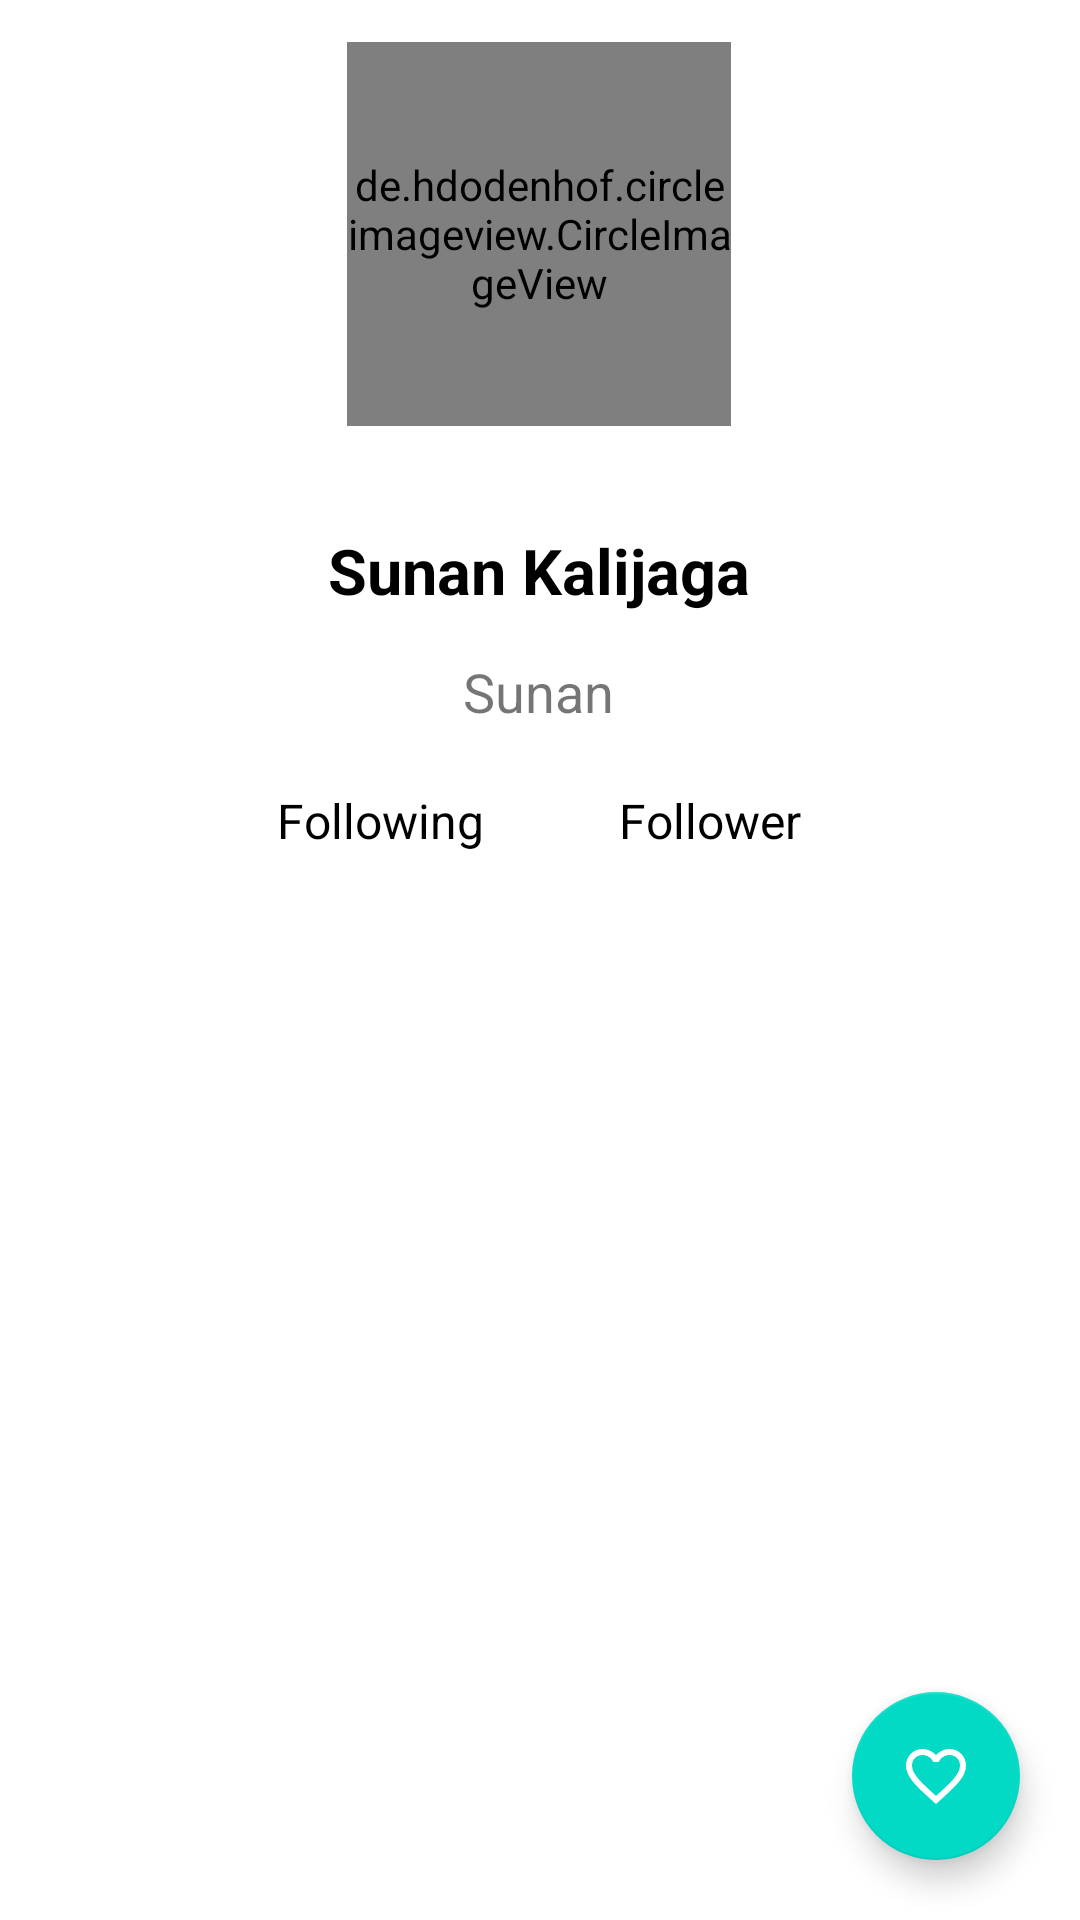

Icon click points for this 1080*1920 phone screenshot, format [x,y]:
favorite border: [936,1776]
